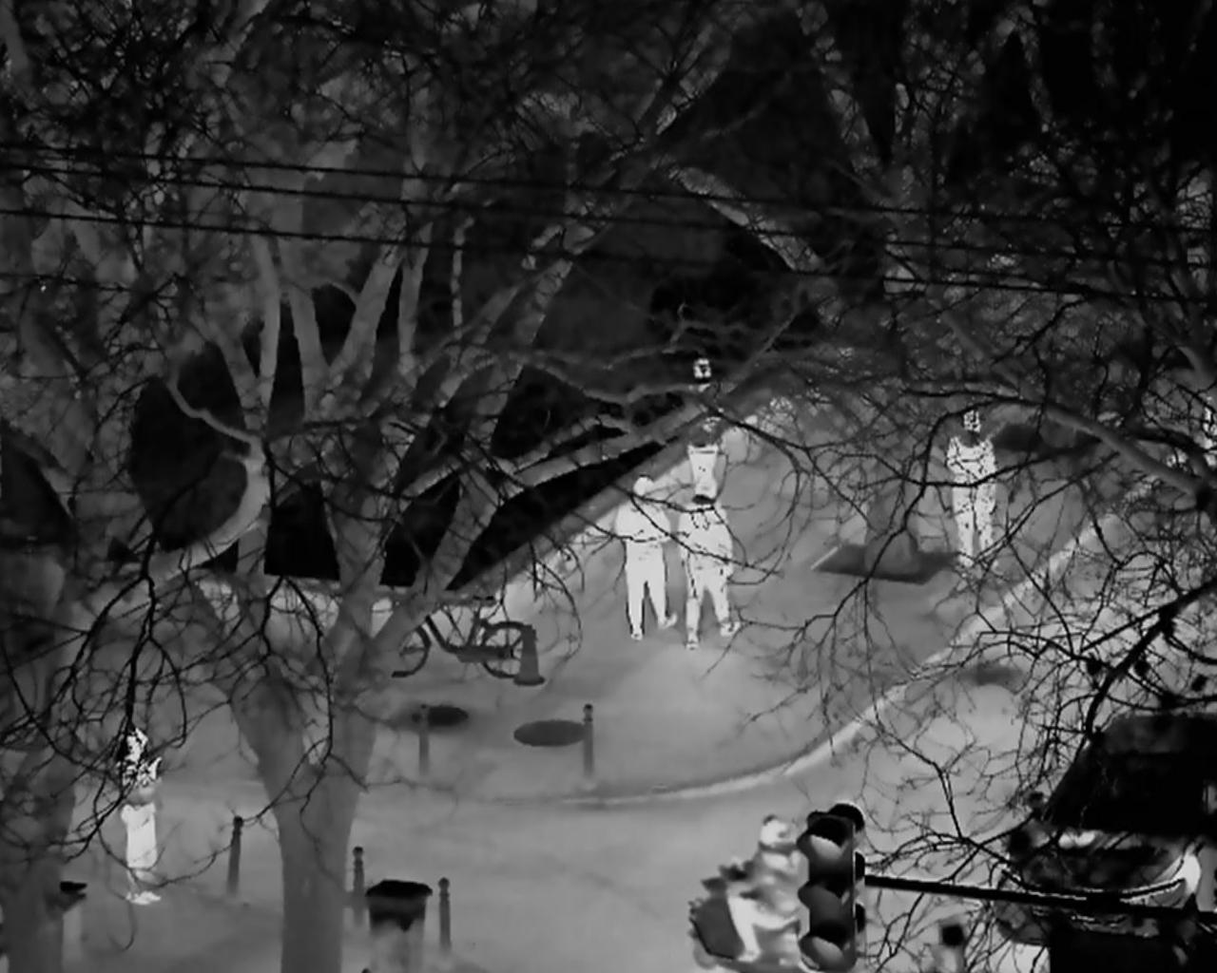person: (724, 813, 802, 964), (610, 474, 679, 644), (680, 475, 744, 651), (946, 410, 999, 569), (121, 728, 161, 905)
